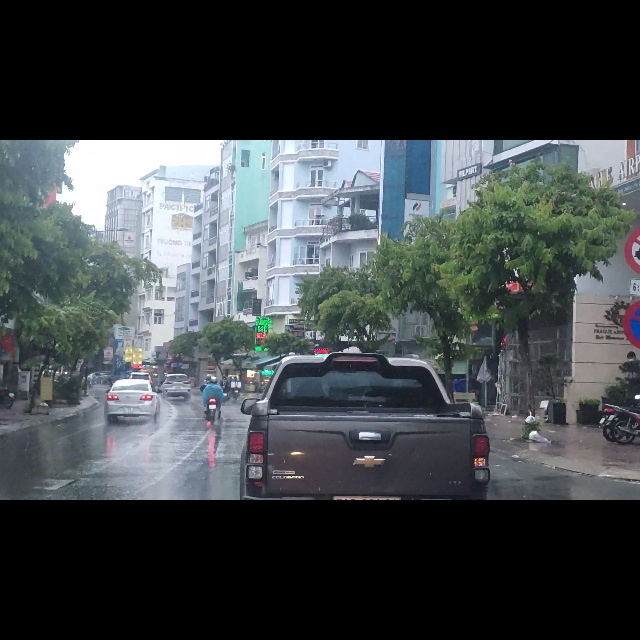bien_cam: (622, 280, 640, 375)
